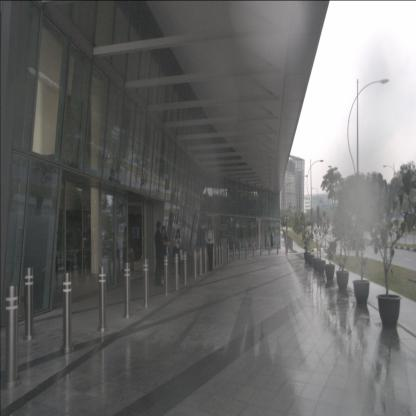human-pedestrian-adult: (154, 221, 168, 287), (160, 226, 170, 284), (172, 228, 183, 278), (205, 222, 215, 271), (111, 231, 119, 278), (122, 226, 128, 272), (127, 243, 134, 271), (270, 231, 274, 251)
vehicle-car: (346, 227, 365, 250)
